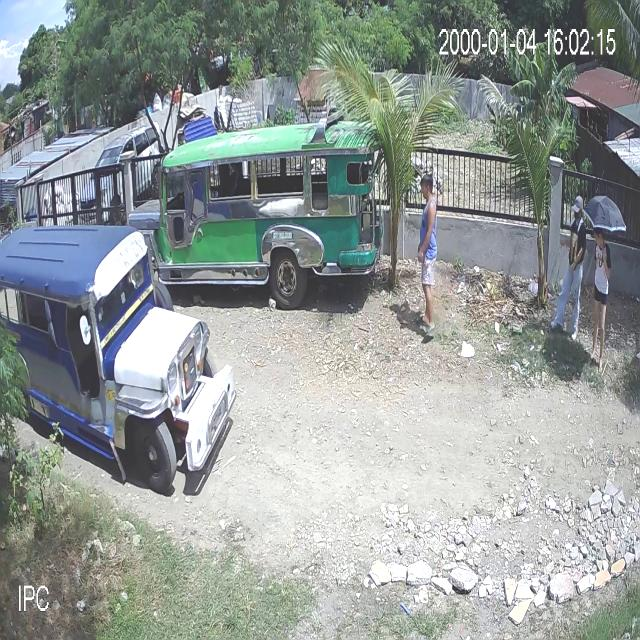standing: (587, 221, 613, 374)
walking: (550, 196, 588, 342), (415, 171, 443, 343)
